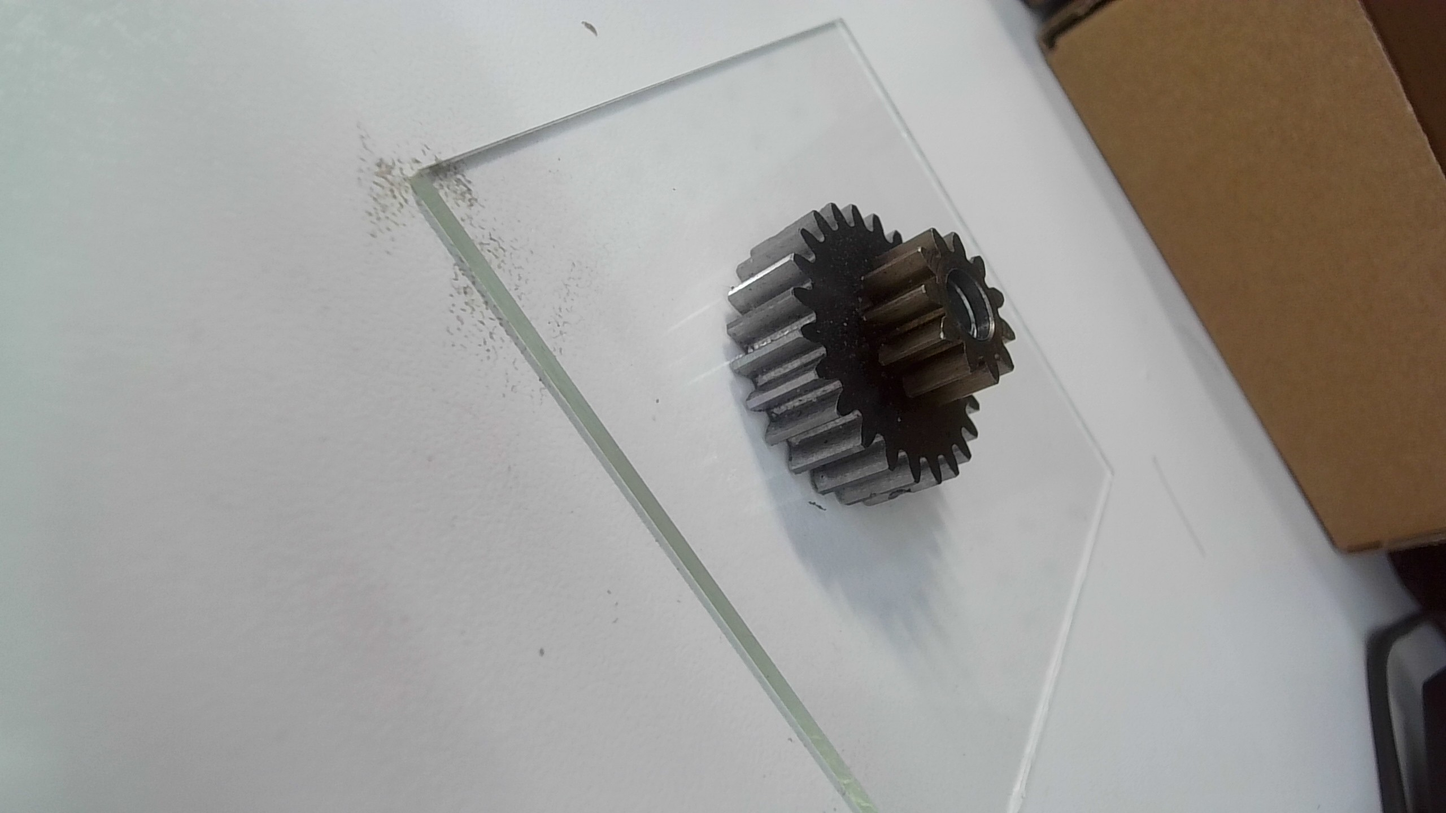gear: (722, 195, 1018, 513)
